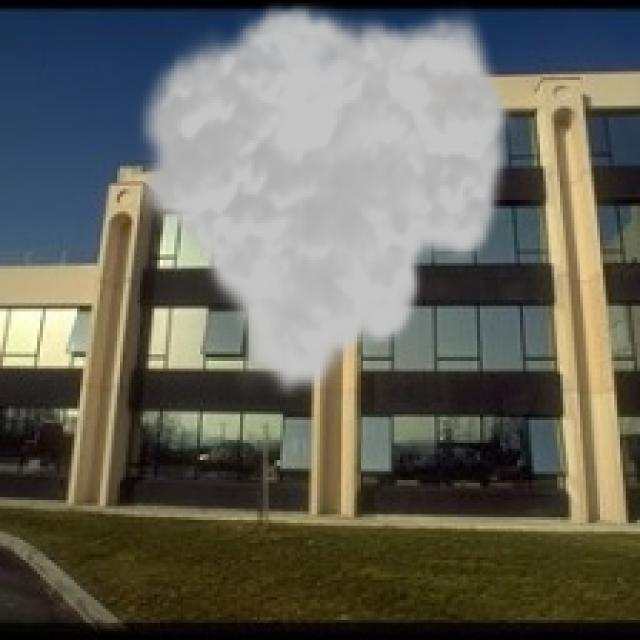smoke: (129, 0, 517, 403)
